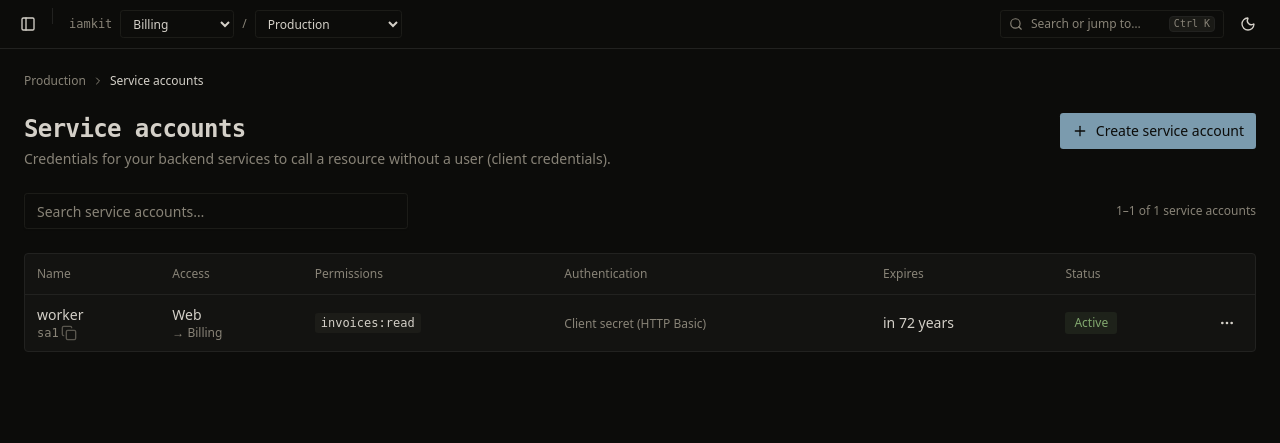
hides the impersonation switch from admins
Click the button named "Actions for worker" at (1227, 322), box [1211,306,1243,338]
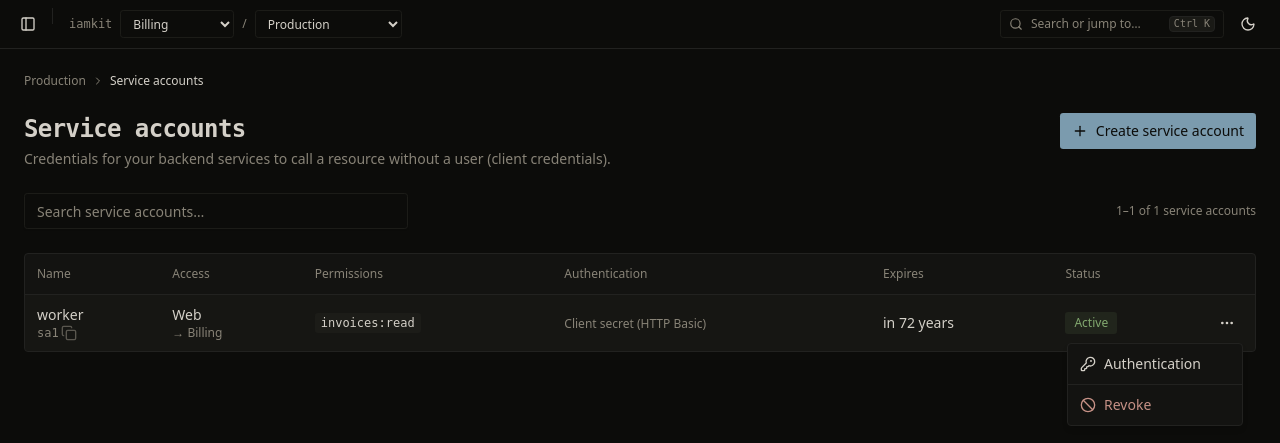
Now the menu item "Authentication" is shown, box [1080,354,1201,373]
